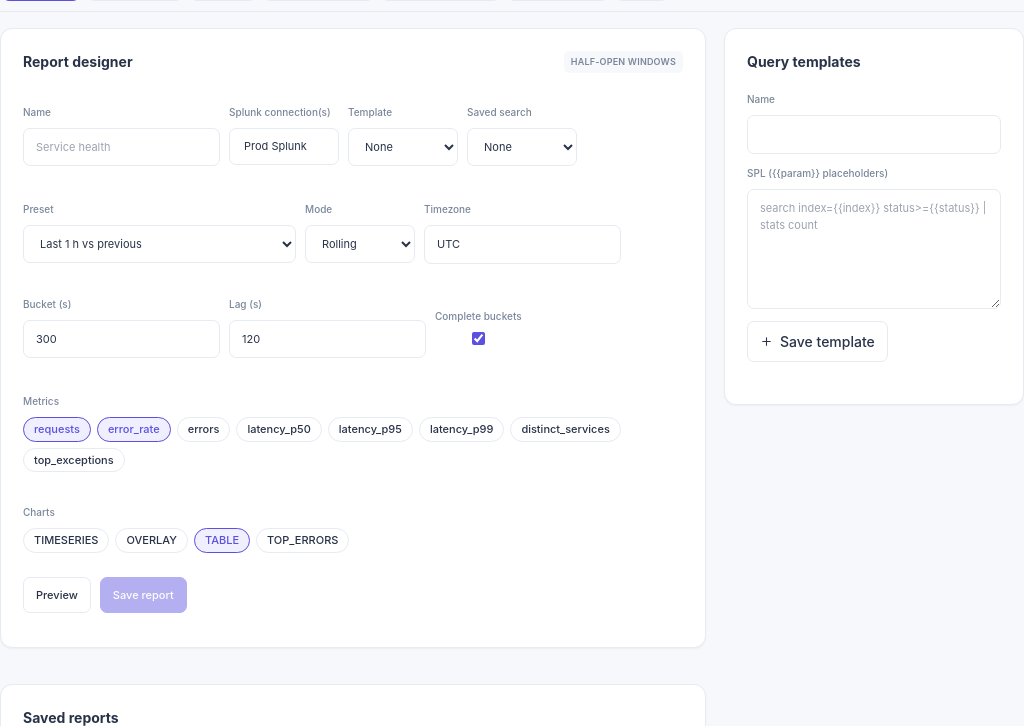
Test case: Monitoring › previews a comparison and renders metrics with MISSING status
Click the button "Preview": point(57, 595) [23,576,91,613]
(page scrolled)
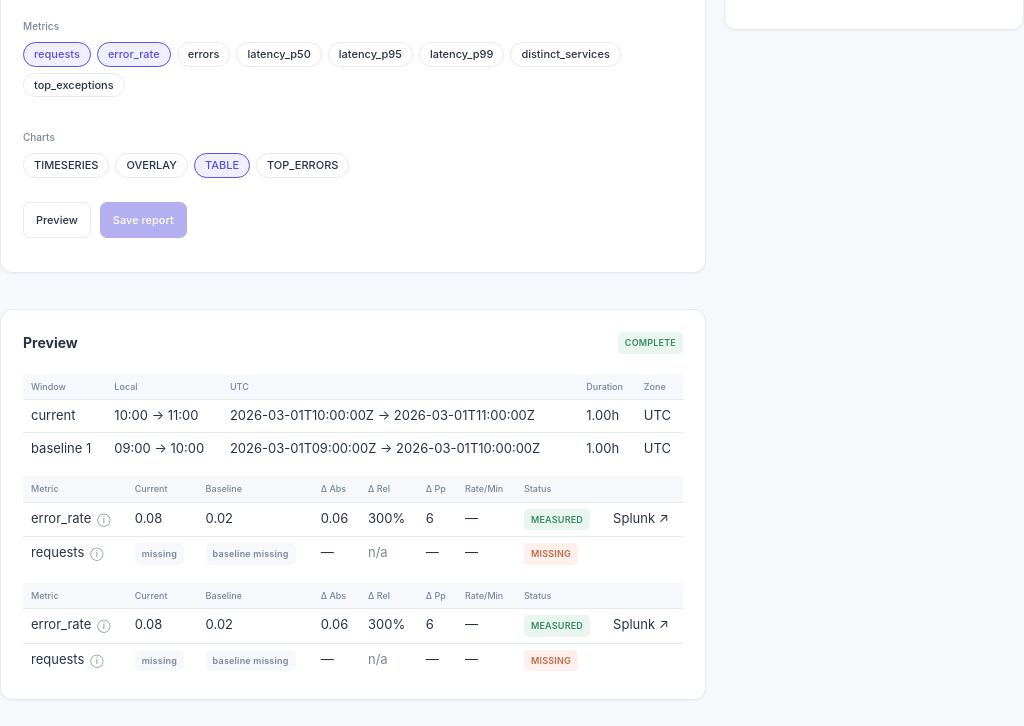
Expected: the button "error_rate" is shown, [97,42,171,66]
Now the 1st text "MISSING" is shown, box [524,543,578,564]
Now the text "COMPLETE" is shown, box [618,332,683,354]
